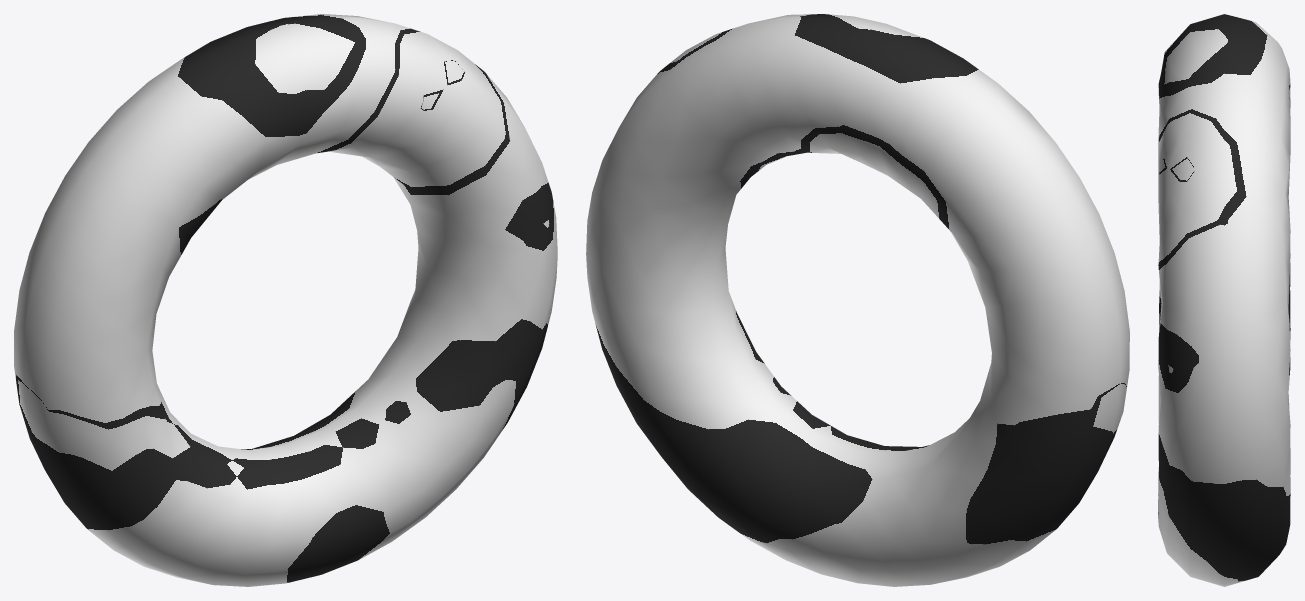
File: torus_R50mm_r15mm_cgal_authalic_result.glb
3 renders of one model, left to right at view 1: azimuth 30°, elevation 25°; view 2: azimuth 150°, elevation 25°; view 3: azimuth 270°, elevation 25°, orthographic. The views are drawn at different scales.
Size of the model in its own units: 130 by 130 by 30.
1 material, 1 textured.
